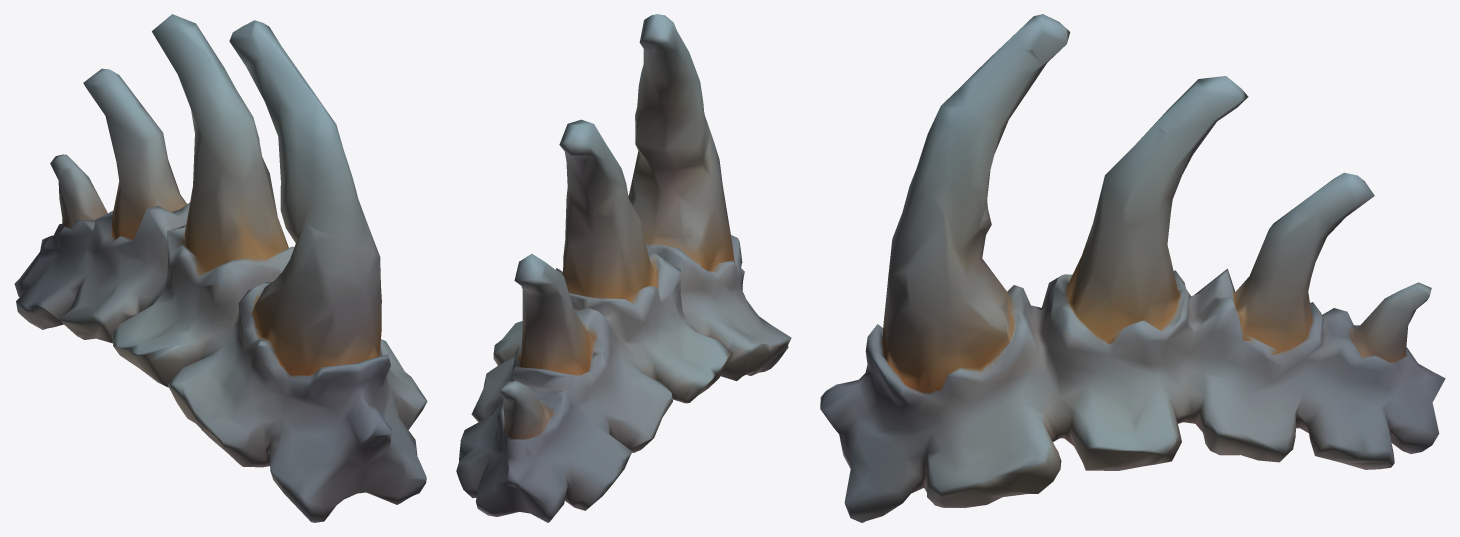
File: tasiyici_omurga.glb
The picture shows the model from 3 angles, left to right: view 1: azimuth 30°, elevation 25°; view 2: azimuth 150°, elevation 25°; view 3: azimuth 270°, elevation 25°; orthographic projection. The views are drawn at different scales.
Parts seen in each view (by area): view 1: tripo_node_5bccd915-4ad9-4591-a43c-c7ab8895fdd4; view 2: tripo_node_5bccd915-4ad9-4591-a43c-c7ab8895fdd4; view 3: tripo_node_5bccd915-4ad9-4591-a43c-c7ab8895fdd4.
Boxes of the visible parts, x1,y1,x2,y2 form: tripo_node_5bccd915-4ad9-4591-a43c-c7ab8895fdd4: (14,14,427,522); tripo_node_5bccd915-4ad9-4591-a43c-c7ab8895fdd4: (456,14,791,522); tripo_node_5bccd915-4ad9-4591-a43c-c7ab8895fdd4: (820,14,1445,522).
Bounding box in the file's own units: 0.4518 × 0.8394 × 1.
Materials: 1 (1 with a texture image).
